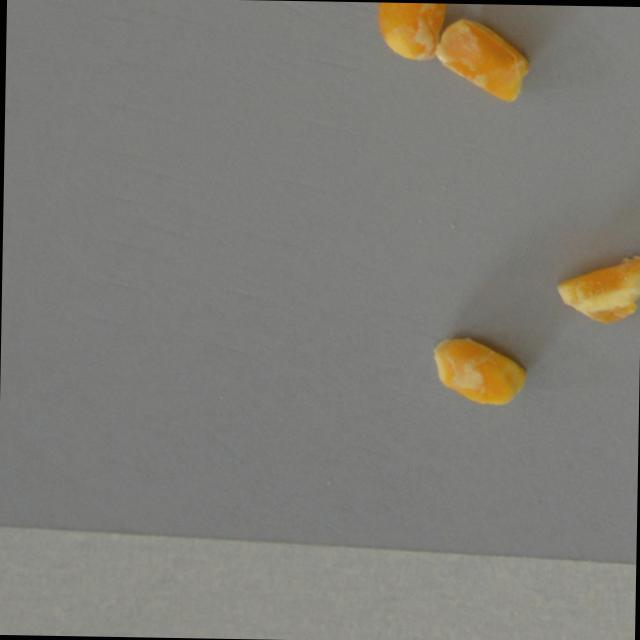pelicula: (436, 17, 533, 103), (431, 331, 527, 408), (555, 250, 640, 326), (376, 1, 448, 63)
